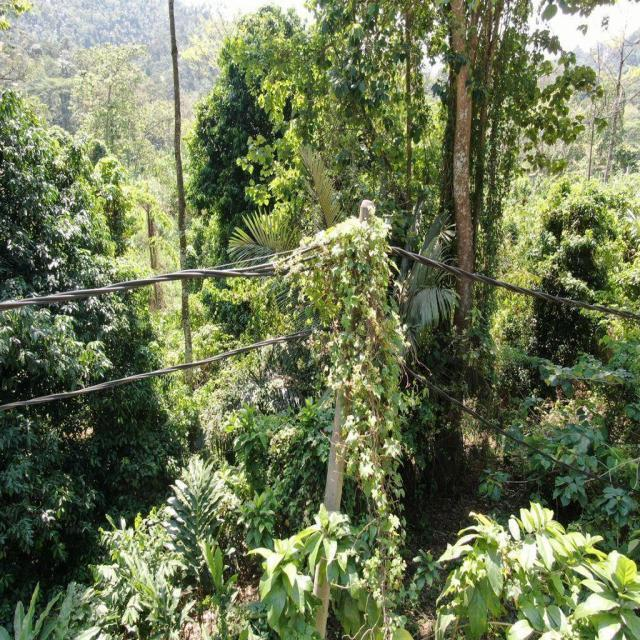critical vegetation: (266, 202, 412, 624)
